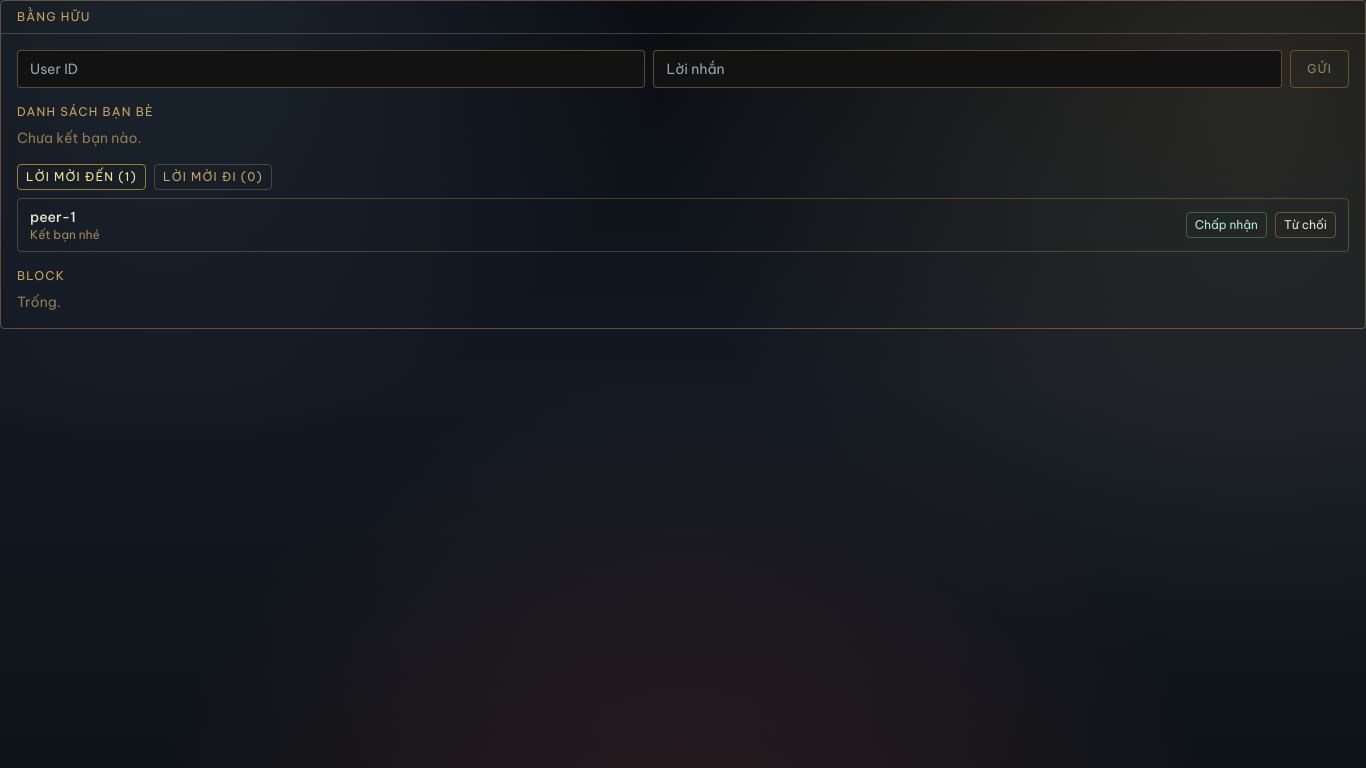
SocialPanel — render & flows › accept friend request gọi acceptFriendRequest + refresh friends
Click the button with test id "social-incoming-accept": (1226, 225) x1=1186 y1=212 x2=1267 y2=238
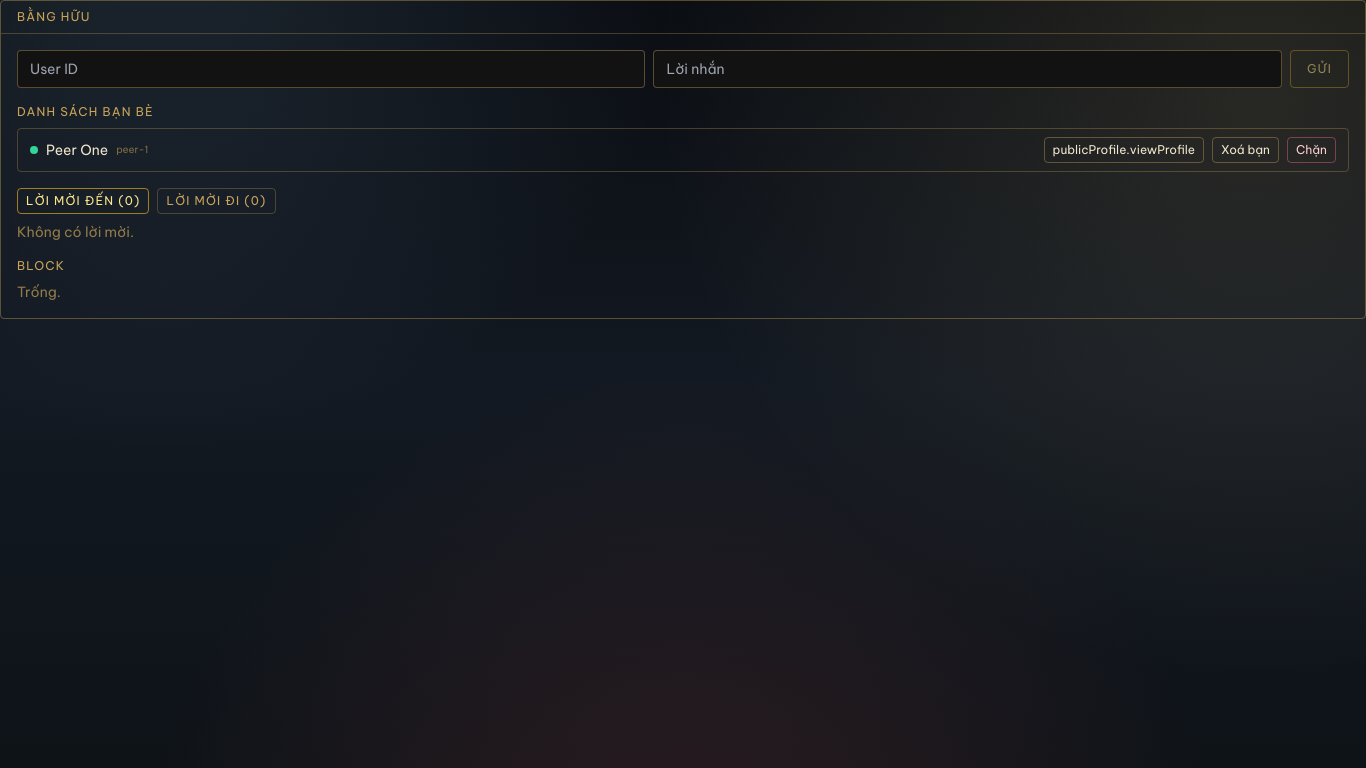
Expected: the list item with test id "social-friend-row" is shown, x1=17 y1=128 x2=1349 y2=172
